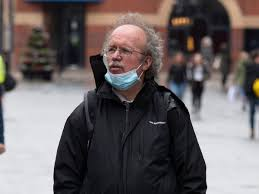mask_weared_incorrect: (102, 29, 152, 89)
